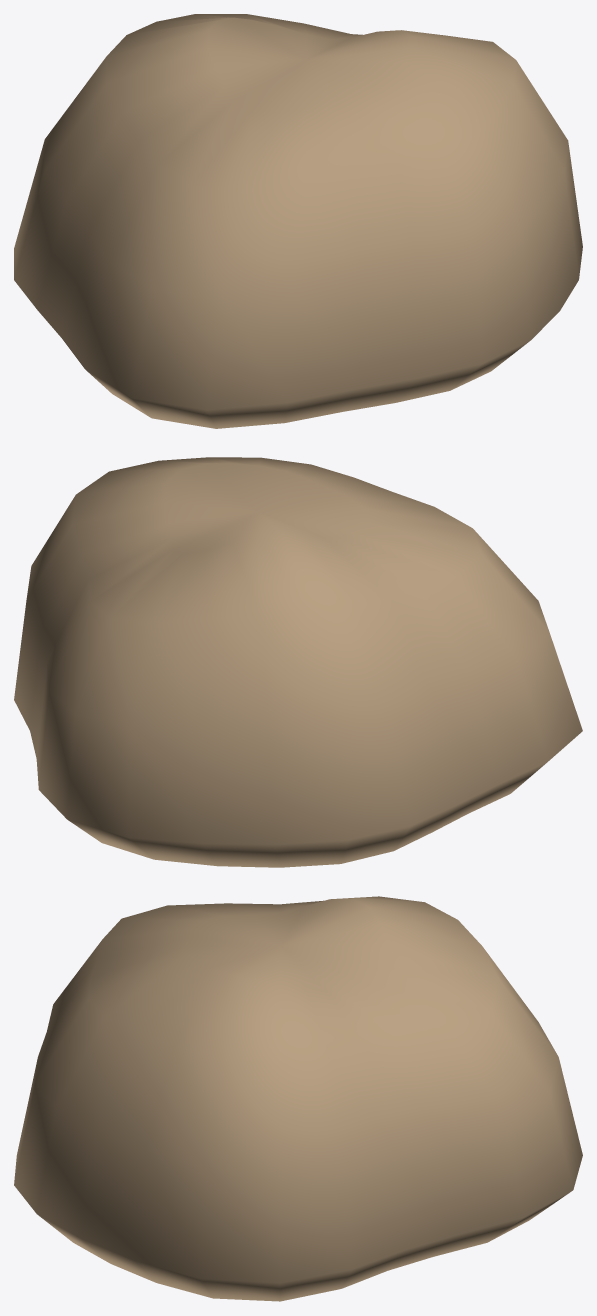
File: TitleBoulder.obj
3 views of the same model, one above another, from view 1: azimuth 30°, elevation 25°; view 2: azimuth 150°, elevation 25°; view 3: azimuth 270°, elevation 25° (orthographic). The views are drawn at different scales.
Parts seen in each view (by area): view 1: TitleBoulder; view 2: TitleBoulder; view 3: TitleBoulder.
Boxes of the visible parts, bbox=[...] form: TitleBoulder: bbox=[14, 14, 582, 428]; TitleBoulder: bbox=[14, 457, 582, 867]; TitleBoulder: bbox=[14, 896, 582, 1301].
Size of the model in its own units: 2.06 by 1.07 by 2.01.
Materials: 1 (1 with a texture image).
